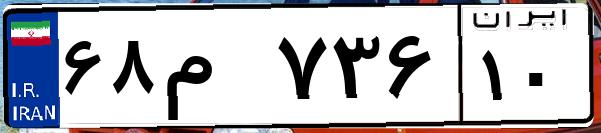0: (525, 38, 570, 115)
1: (475, 38, 525, 113)
3: (330, 28, 385, 110)
6: (385, 28, 445, 110), (57, 26, 110, 100)
7: (270, 28, 330, 110)
8: (110, 28, 158, 98)
م: (158, 20, 270, 120)
